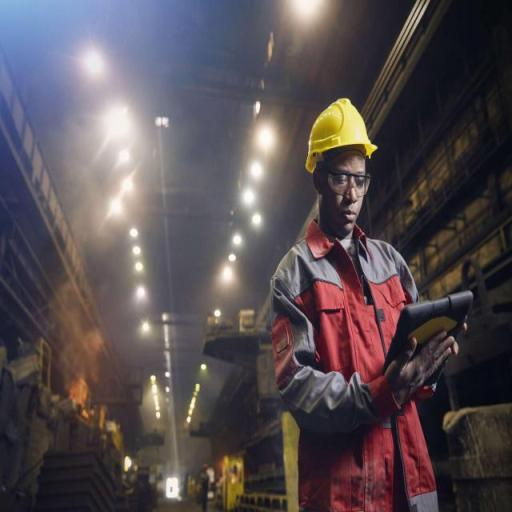helmet: (302, 94, 380, 172)
vest: (272, 220, 434, 508)
